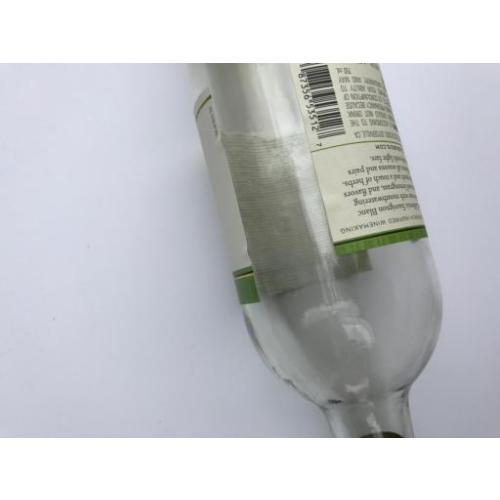glass: (203, 61, 443, 435)
